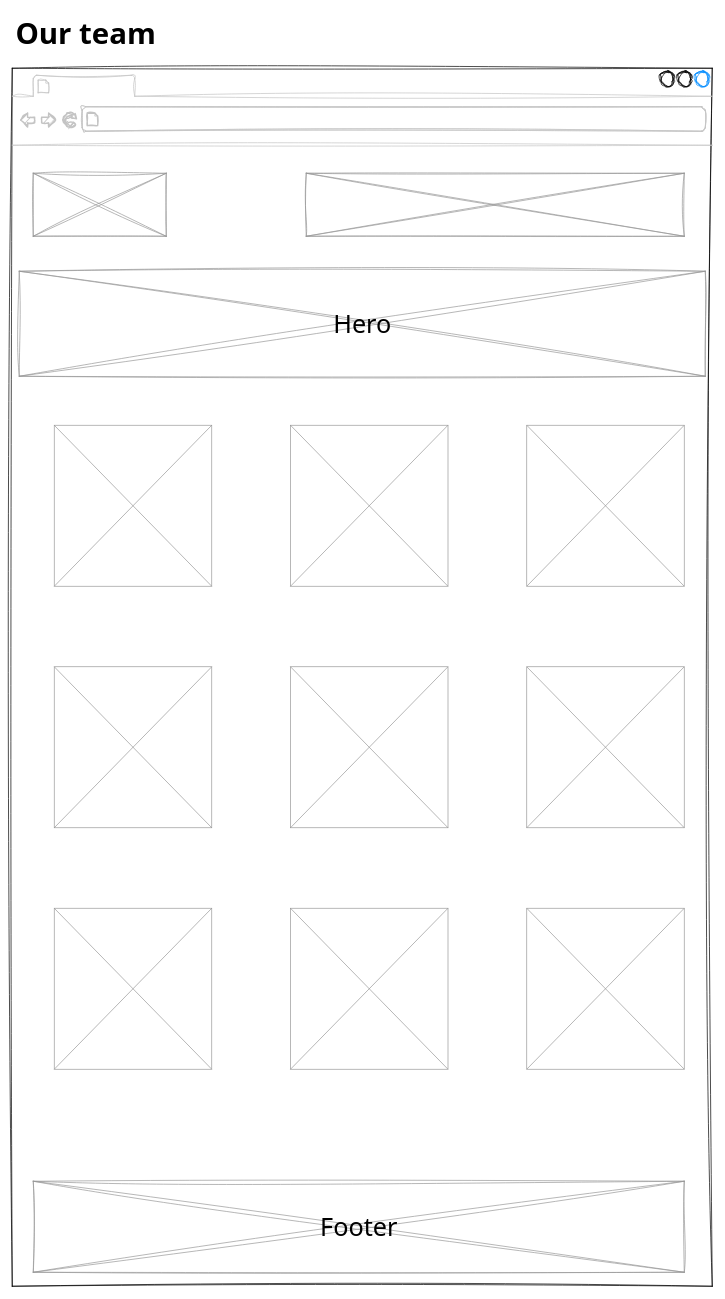
Some shapes in this 725 by 1299 pixel diagram are drawn without their labels. Each missing label, with the centre of its shape:
Logo: [99,204]
Top menu: [495,204]
